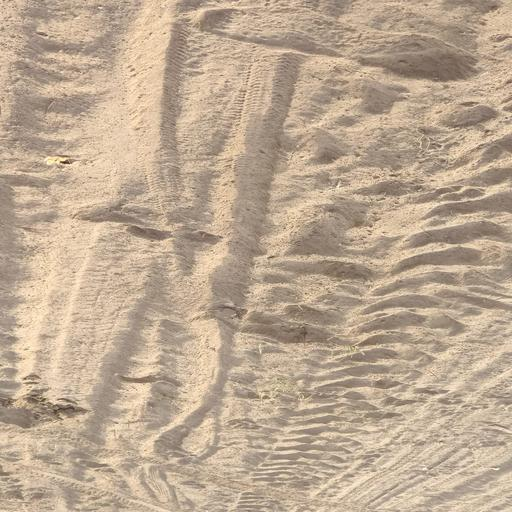vehicle_track: (20, 0, 512, 512)
